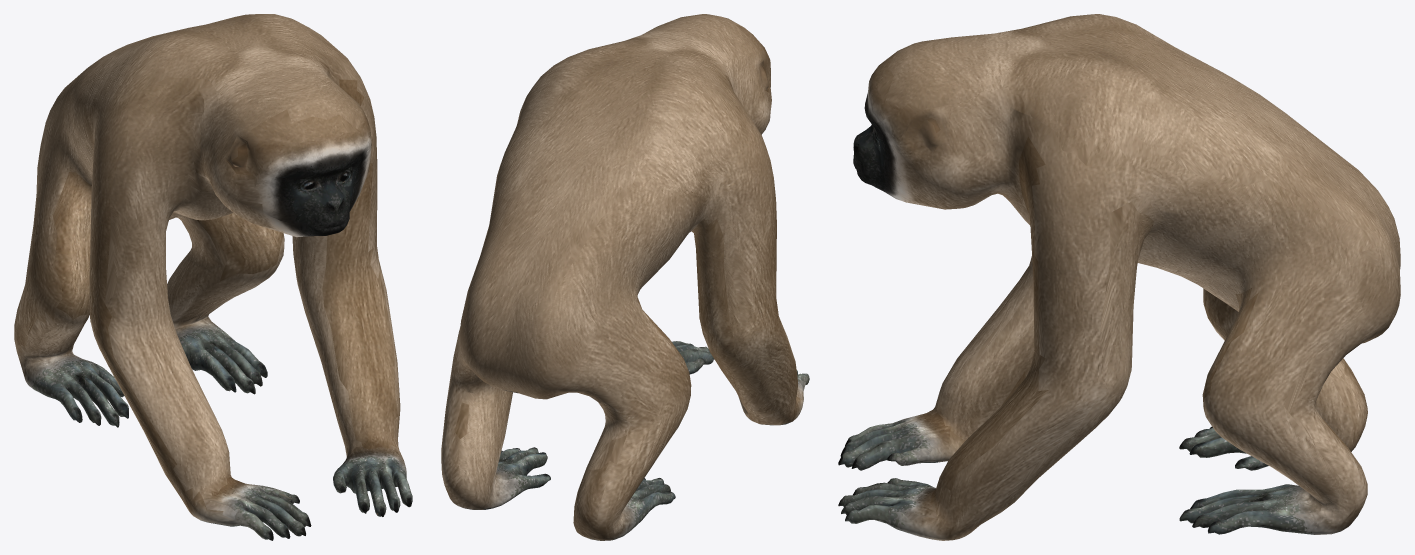
The model's file is gibby.glb.
3 renders of one model, left to right at view 1: azimuth 30°, elevation 25°; view 2: azimuth 150°, elevation 25°; view 3: azimuth 270°, elevation 25°, orthographic. The views are drawn at different scales.
Visible parts, largest first — view 1: Gibbon STL.001; view 2: Gibbon STL.001; view 3: Gibbon STL.001.
Part boxes in pixels (x1=…): Gibbon STL.001: x1=14, y1=14, x2=412, y2=540; Gibbon STL.001: x1=441, y1=14, x2=809, y2=540; Gibbon STL.001: x1=838, y1=14, x2=1400, y2=540.
Bounding box in the file's own units: 3.05 × 4.33 × 4.93.
Materials: 1 (1 with a texture image).
